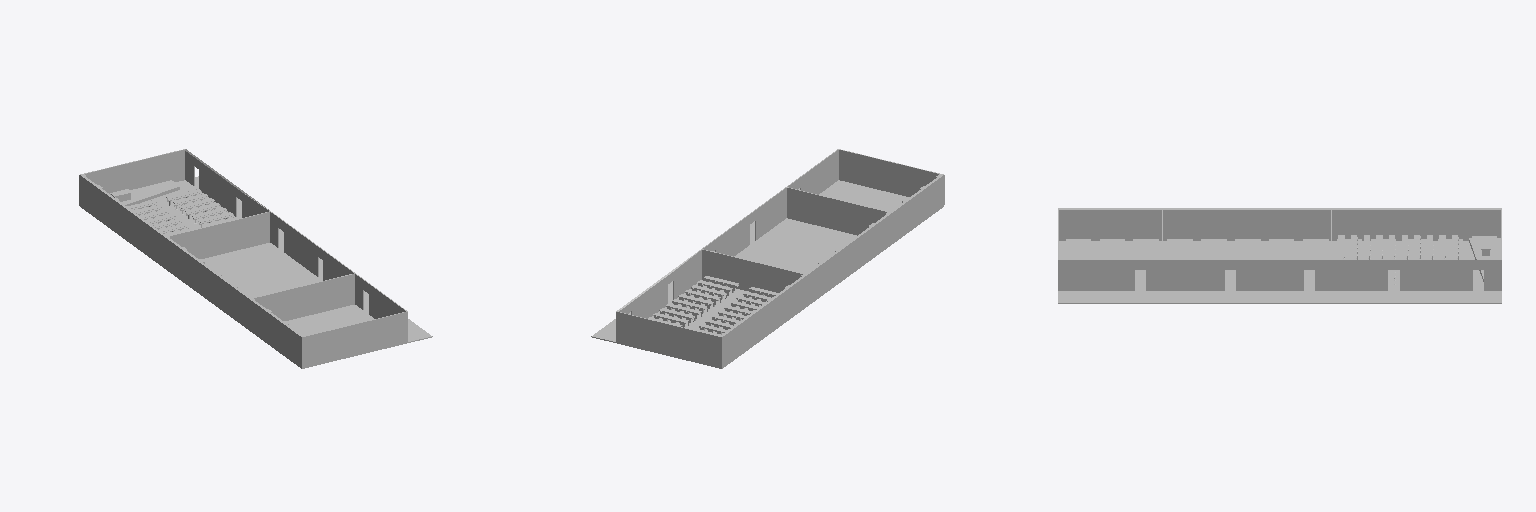
3 renders of one model, left to right at view 1: azimuth 30°, elevation 25°; view 2: azimuth 150°, elevation 25°; view 3: azimuth 270°, elevation 25°, orthographic.
Parts seen in each view (by area): view 1: Plane, Plane.002, Terra_Segona_Classe, Pared_Exterior_Classe_Petita, Plane.004, Plane.003, Plane.006, Pared_Exterior_Classe_Gran, Terra_Primera_Classe, Plane.008, Terra_Tercerca_Classe, Plane.005 (+2 smaller); view 2: Plane.002, Plane, Terra_Segona_Classe, Pared_Exterior_Classe_Gran, Plane.003, Plane.004, Pared_Exterior_Classe_Petita, Plane.006, Plane.008, Terra_Primera_Classe, Plane.005, Terra_Tercerca_Classe; view 3: Plane.002, Plane, Passadis, Plane.003, Pilars_Clase, Terra_Segona_Classe, Terra_Primera_Classe, Terra_Tercerca_Classe, Plane.005, Plane.001.
Part boxes in pixels (bbox=[...]): Plane: bbox=[80, 149, 269, 267]; Plane.002: bbox=[165, 211, 354, 328]; Terra_Segona_Classe: bbox=[165, 243, 322, 329]; Pared_Exterior_Classe_Petita: bbox=[303, 311, 407, 367]; Plane.004: bbox=[249, 273, 354, 329]; Plane.003: bbox=[250, 273, 406, 367]; Plane.006: bbox=[167, 211, 269, 258]; Pared_Exterior_Classe_Gran: bbox=[79, 149, 185, 205]; Terra_Primera_Classe: bbox=[249, 305, 407, 368]; Plane.008: bbox=[166, 189, 238, 227]; Terra_Tercerca_Classe: bbox=[80, 180, 234, 268]; Plane.005: bbox=[127, 200, 193, 235]; Plane.002: bbox=[702, 187, 891, 304]; Plane: bbox=[617, 249, 806, 366]; Terra_Segona_Classe: bbox=[734, 218, 891, 306]; Pared_Exterior_Classe_Gran: bbox=[616, 311, 722, 368]; Plane.003: bbox=[786, 149, 944, 242]; Plane.004: bbox=[787, 187, 886, 235]; Pared_Exterior_Classe_Petita: bbox=[839, 149, 939, 196]; Plane.006: bbox=[702, 249, 807, 305]; Plane.008: bbox=[648, 276, 738, 327]; Terra_Primera_Classe: bbox=[819, 180, 943, 243]; Plane.005: bbox=[693, 287, 778, 335]; Terra_Tercerca_Classe: bbox=[651, 280, 806, 367]; Plane.002: bbox=[1163, 208, 1331, 290]; Plane: bbox=[1332, 208, 1500, 290]; Passadis: bbox=[1058, 291, 1501, 303]; Plane.003: bbox=[1058, 208, 1162, 290]; Pilars_Clase: bbox=[1058, 209, 1500, 240]; Terra_Segona_Classe: bbox=[1163, 239, 1330, 290]; Terra_Primera_Classe: bbox=[1059, 239, 1161, 290]; Terra_Tercerca_Classe: bbox=[1332, 239, 1483, 290]; Plane.005: bbox=[1338, 235, 1458, 259]; Plane.001: bbox=[1469, 236, 1500, 281].
Size of the model in its own units: 13.37 by 3.1 by 39.43.